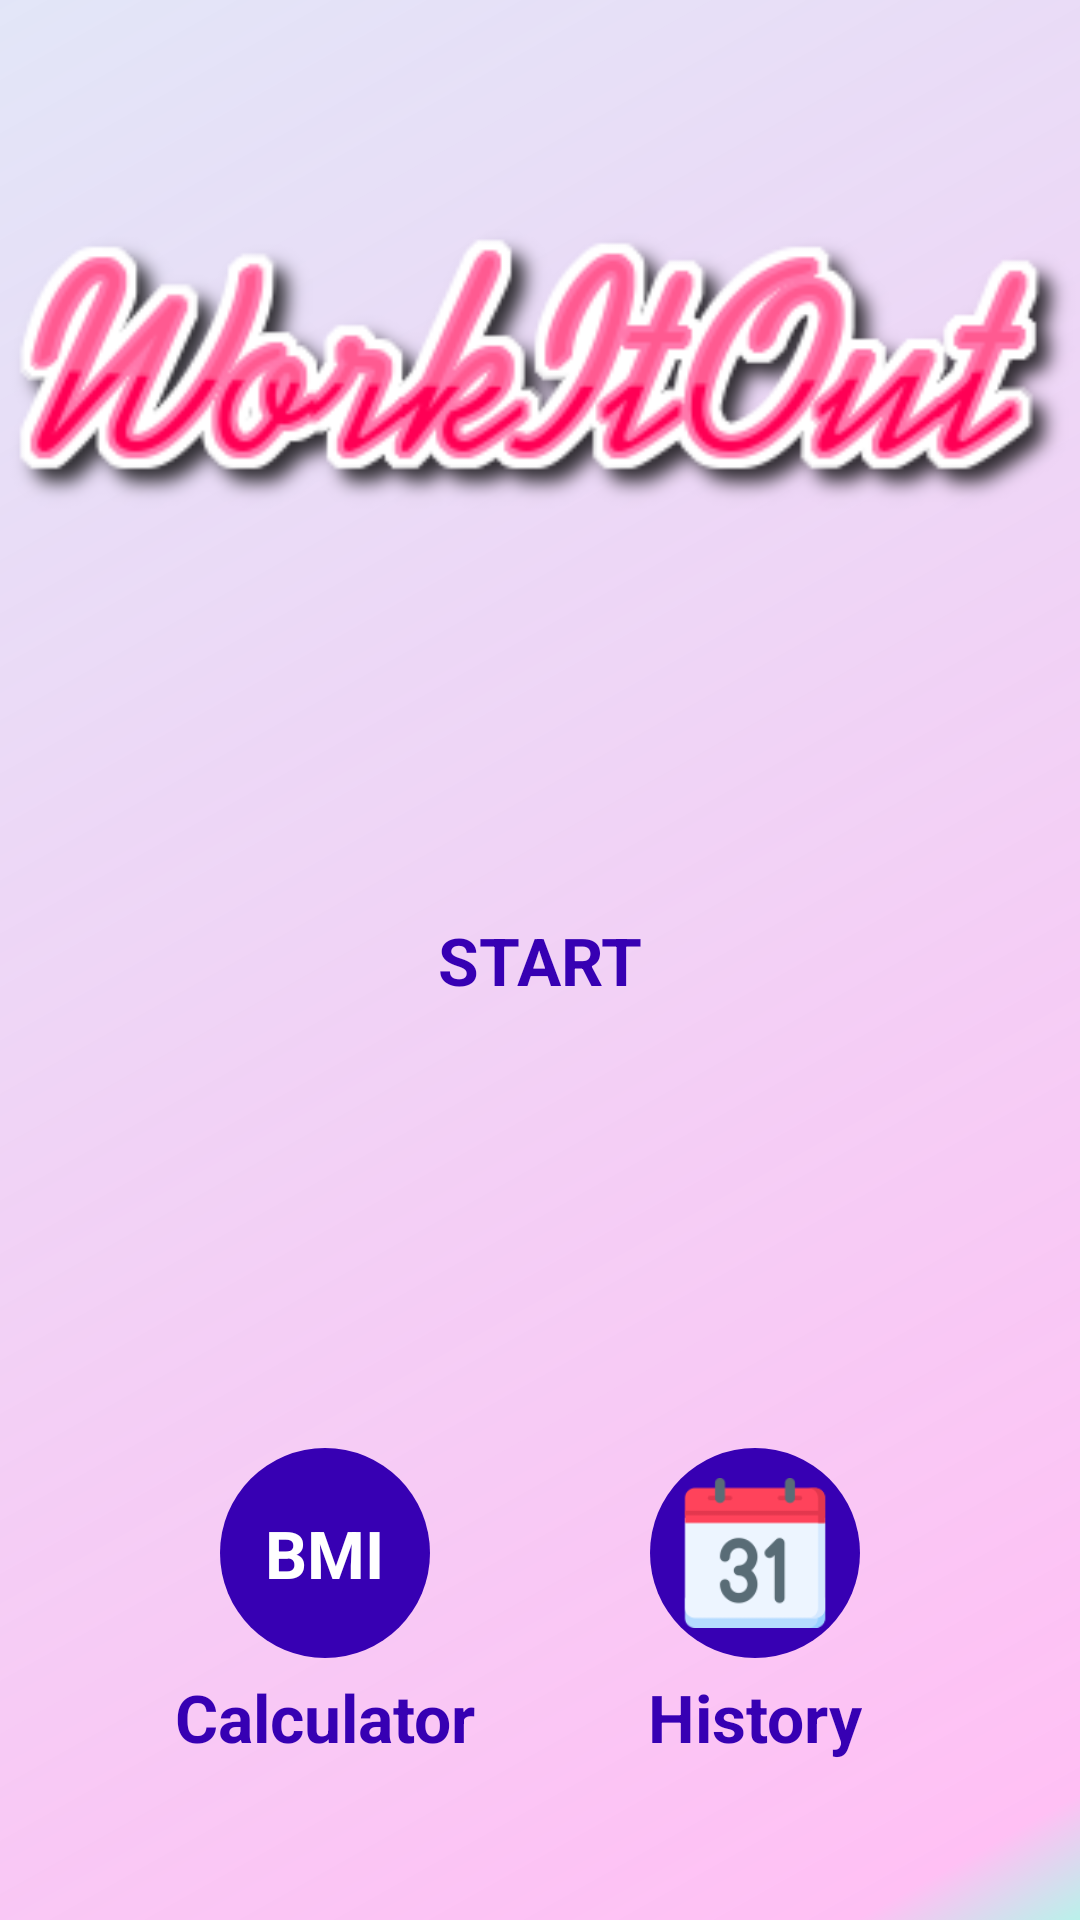

Locate icon controls on the screen. Image size 1080px x 1920px, boxes as (x1, y1, x2, y2).
calendar: (684, 1478, 826, 1628)
